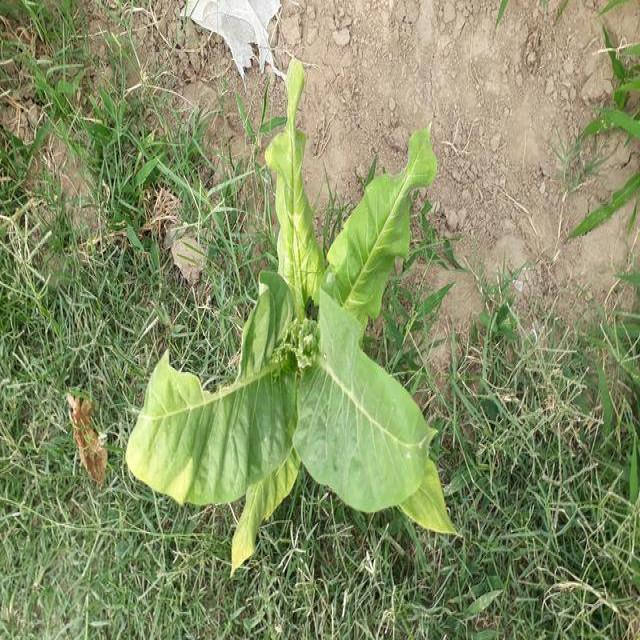crop: (154, 96, 459, 563)
